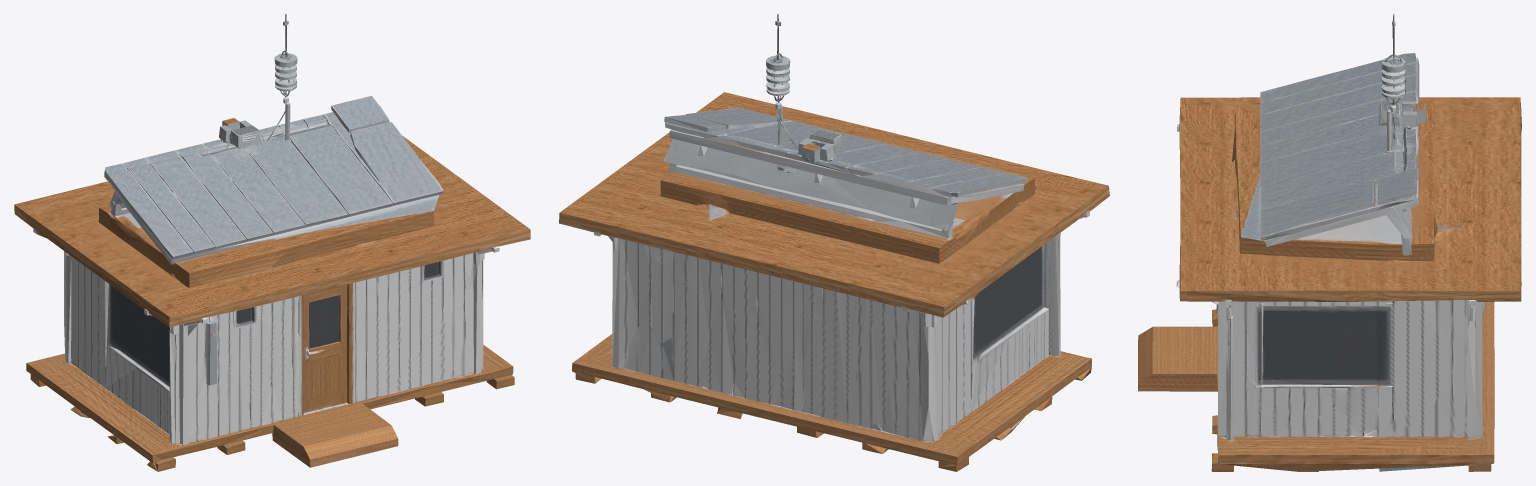
File: research.glb
The picture shows the model from 3 angles, left to right: view 1: azimuth 30°, elevation 25°; view 2: azimuth 150°, elevation 25°; view 3: azimuth 270°, elevation 25°; orthographic projection. The views are drawn at different scales.
Bounding box in the file's own units: 1.9 × 1.72 × 1.58.
Materials: 1 (1 with a texture image).
